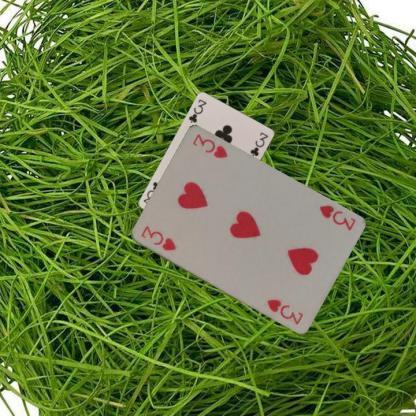3c: (186, 97, 208, 124)
3h: (315, 202, 357, 232), (138, 223, 178, 253)
